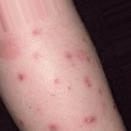Fleas: (79, 113, 97, 127), (82, 76, 92, 87), (16, 72, 24, 82), (48, 124, 60, 130), (15, 117, 23, 125), (53, 76, 59, 85), (65, 52, 72, 59), (32, 29, 40, 34), (112, 104, 116, 111)
